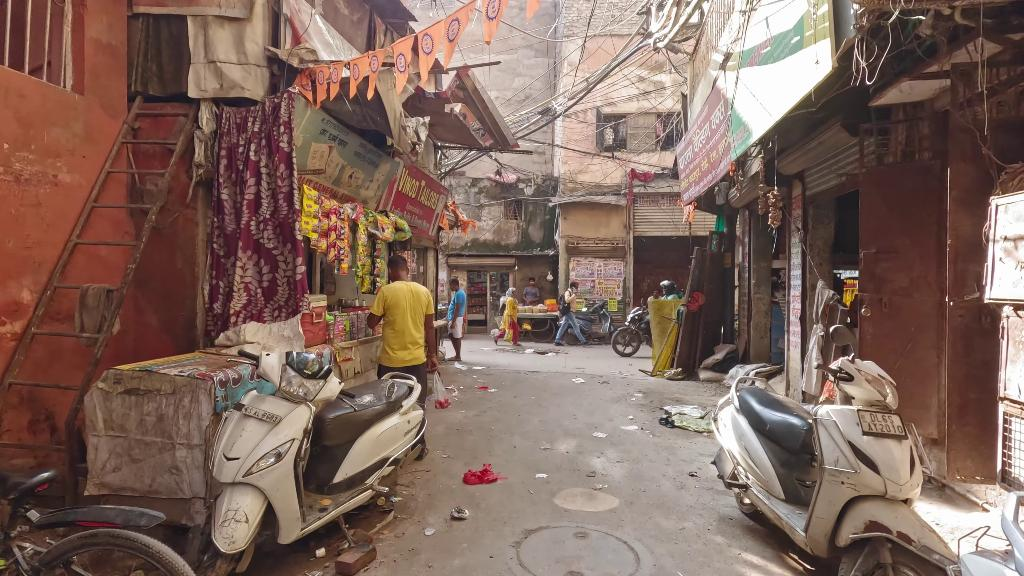garbage: (431, 372, 453, 411), (463, 462, 500, 485), (662, 403, 707, 419), (658, 417, 675, 428), (573, 377, 586, 384), (546, 271, 554, 281)
